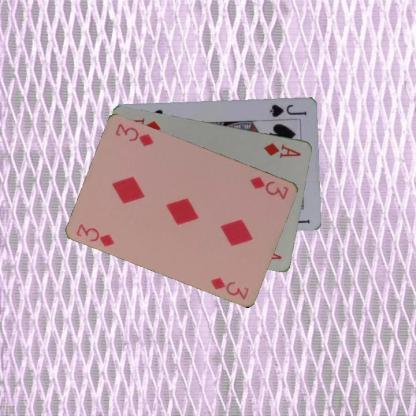3d: (248, 173, 290, 201), (74, 221, 117, 248)
Ad: (261, 140, 303, 159)
Js: (263, 102, 308, 122)
